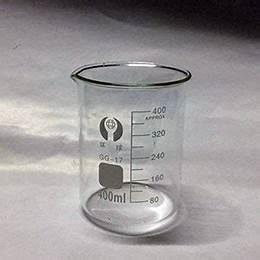Beaker: (71, 50, 192, 243)
